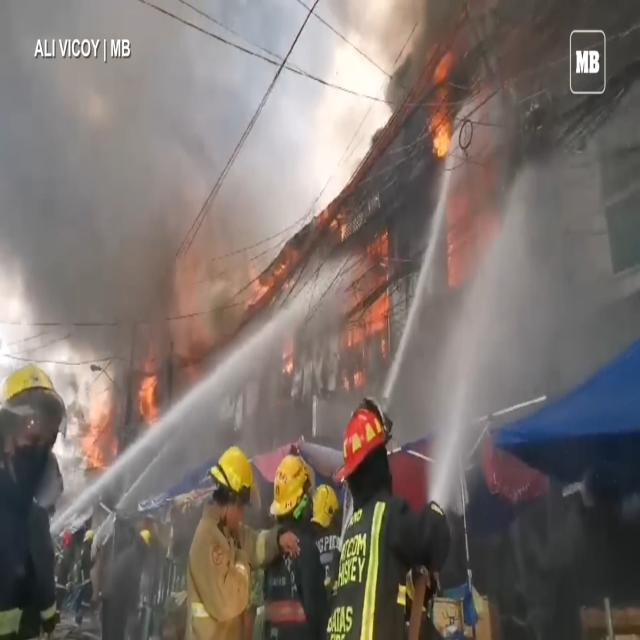Fire: (421, 28, 512, 288), (324, 225, 394, 395), (80, 389, 121, 482), (134, 364, 164, 434)
Smoke: (0, 0, 283, 409), (376, 0, 462, 116)
